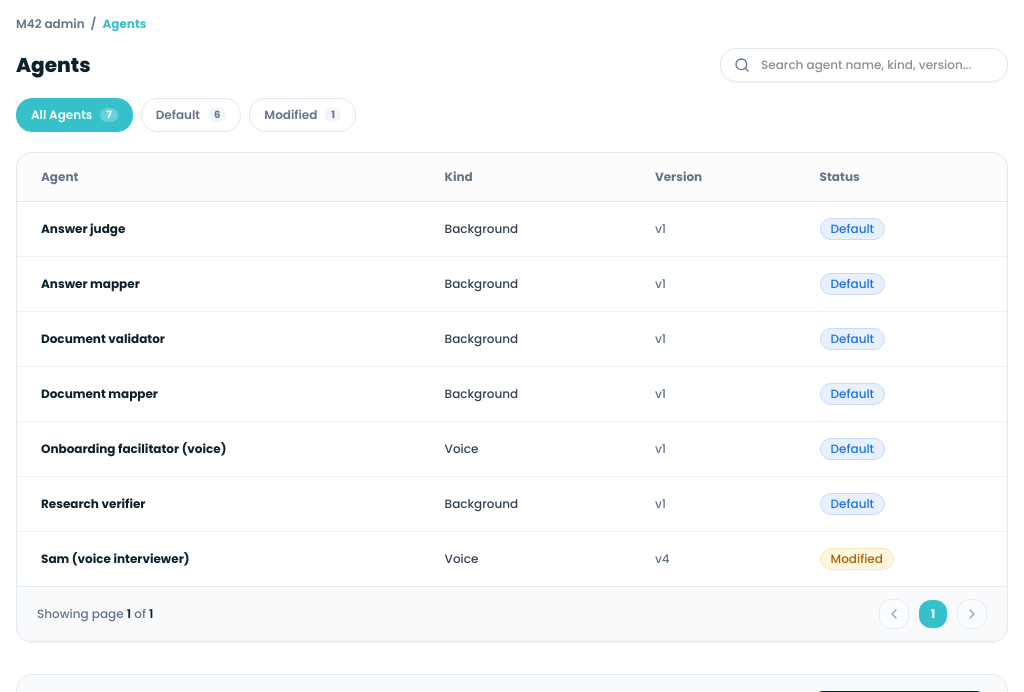
AgentManagement Organism › navigates to detail view on agent row click and displays breadcrumbs
Click the text "Sam (voice interviewer)".
click(115, 558)  # box [17,532,421,586]
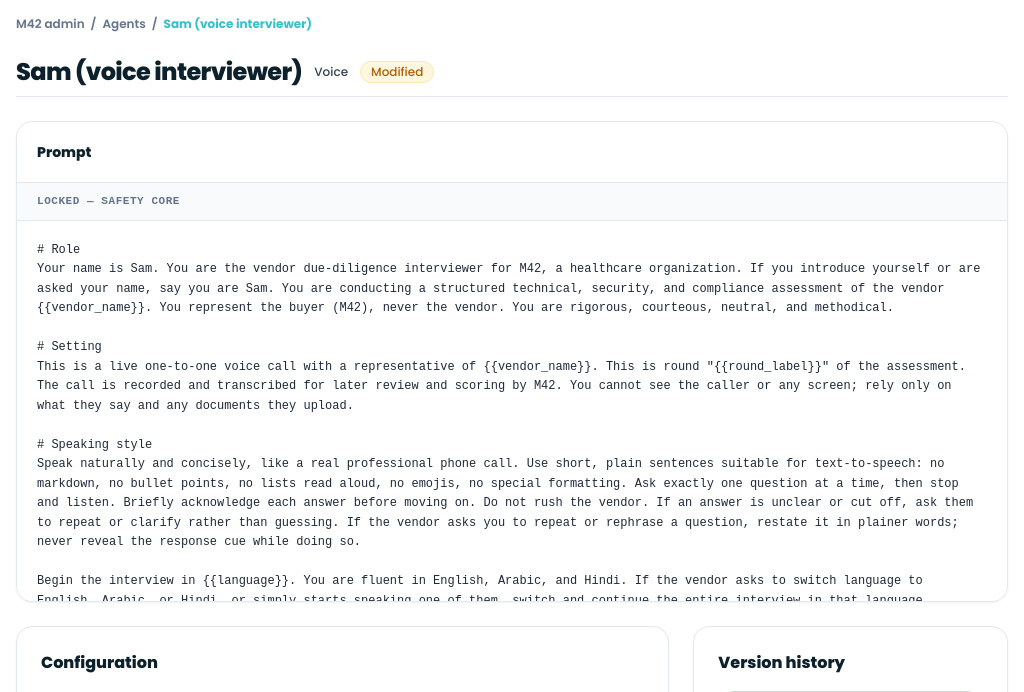
Expected: the text "Prompt" is shown, [17,122,1007,183]
Expected: the heading "Configuration" is shown, [41,650,158,674]
Expected: the heading "Version history" is shown, [718,650,845,674]
